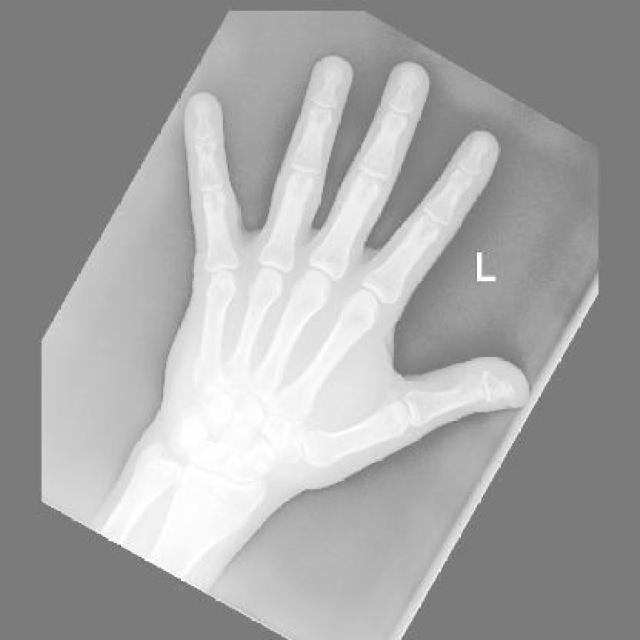bone: (267, 414, 296, 445)
